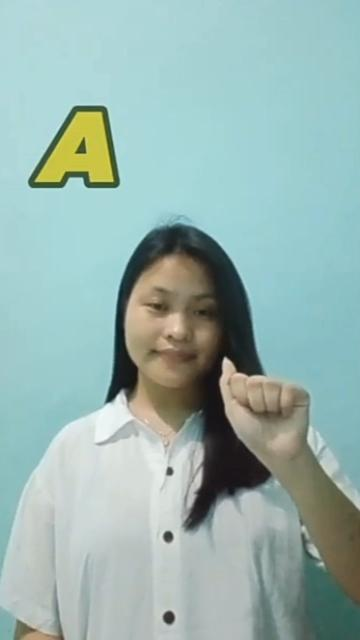A: (213, 353, 329, 483)
